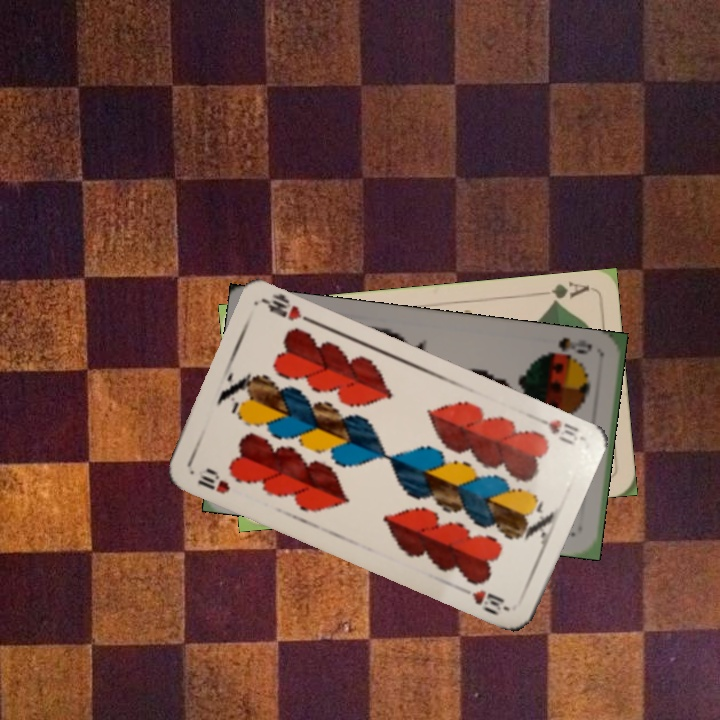GA: (546, 278, 592, 308)
H10: (528, 411, 585, 448), (193, 464, 233, 497)
SO: (554, 334, 595, 357)
